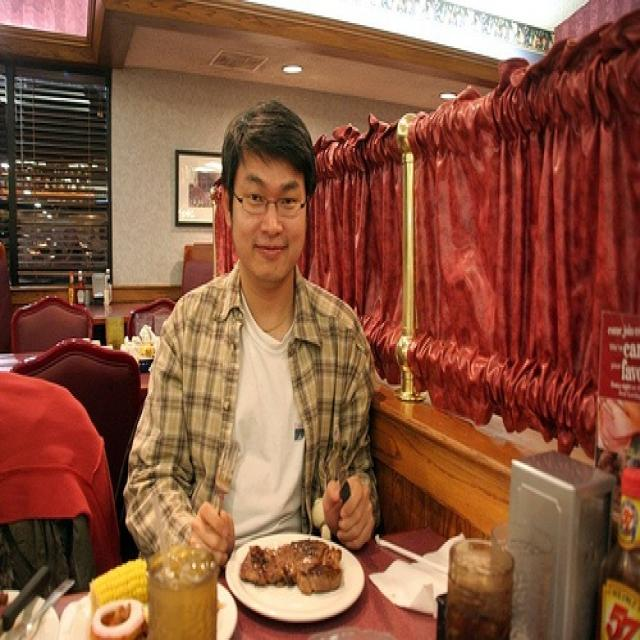bottle: (596, 465, 638, 638)
chair: (13, 338, 141, 490), (6, 298, 90, 357), (132, 292, 184, 344)
diningtable: (1, 525, 639, 638)
